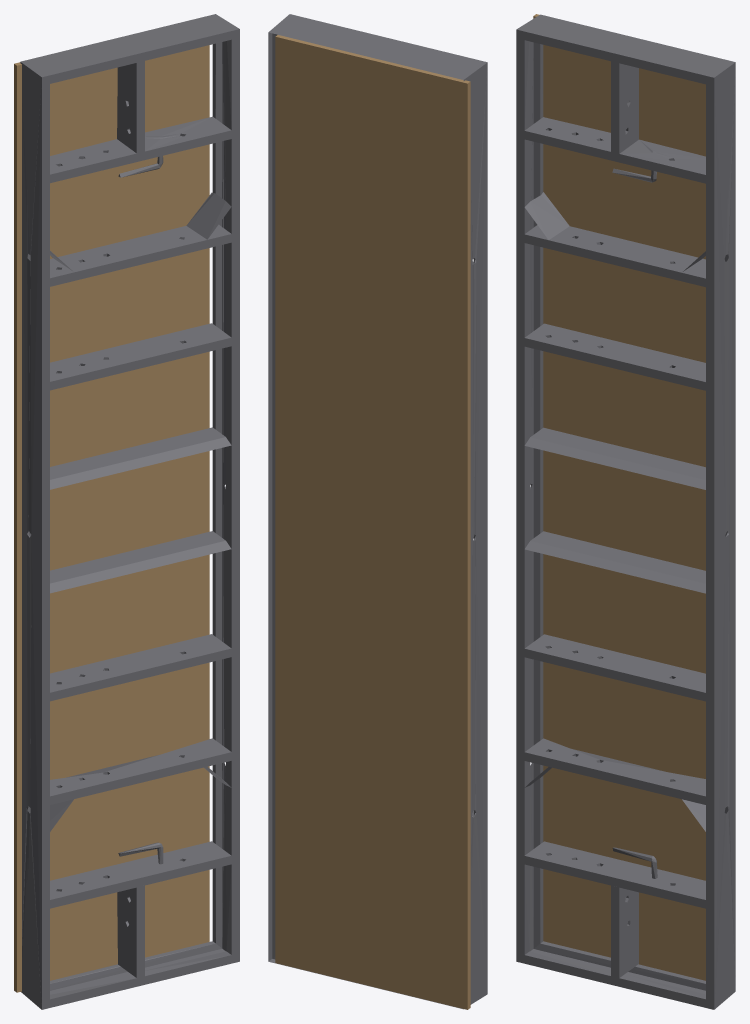
3 views of the same model, side by side, from view 1: azimuth 30°, elevation 25°; view 2: azimuth 150°, elevation 25°; view 3: azimuth 330°, elevation 25° (orthographic).
Parts seen in each view (by area): view 1: 27604207; view 2: 27604207; view 3: 27604207.
Part boxes in pixels (box(x1,y1,x2,y2)): 27604207: box(14, 14, 239, 1009); 27604207: box(268, 14, 487, 1009); 27604207: box(516, 14, 735, 1009).
Bounding box in the file's own units: 0.6118 × 2.7 × 0.1255.
